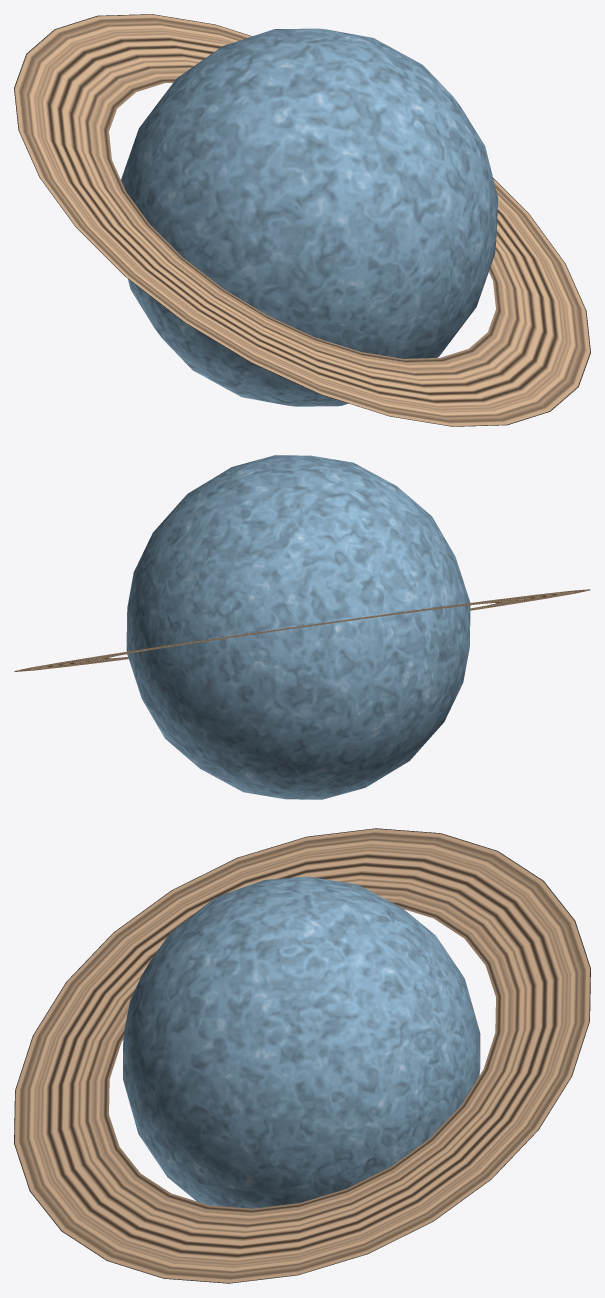
File: planet_4.glb
3 renders of one model, top to bottom at view 1: azimuth 30°, elevation 25°; view 2: azimuth 150°, elevation 25°; view 3: azimuth 270°, elevation 25°, orthographic. The views are drawn at different scales.
Visible parts, largest first — view 1: planet_4, planet_4_ring; view 2: planet_4, planet_4_ring; view 3: planet_4_ring, planet_4.
Boxes of the visible parts, box(x1,y1,x2,y2) form: planet_4: box(121, 28, 498, 406); planet_4_ring: box(14, 14, 590, 426); planet_4: box(126, 455, 470, 799); planet_4_ring: box(14, 589, 590, 671); planet_4_ring: box(14, 828, 590, 1283); planet_4: box(123, 876, 480, 1208).
Bounding box in the file's own units: 1.98 × 1.26 × 2.
2 materials, 2 textured.
